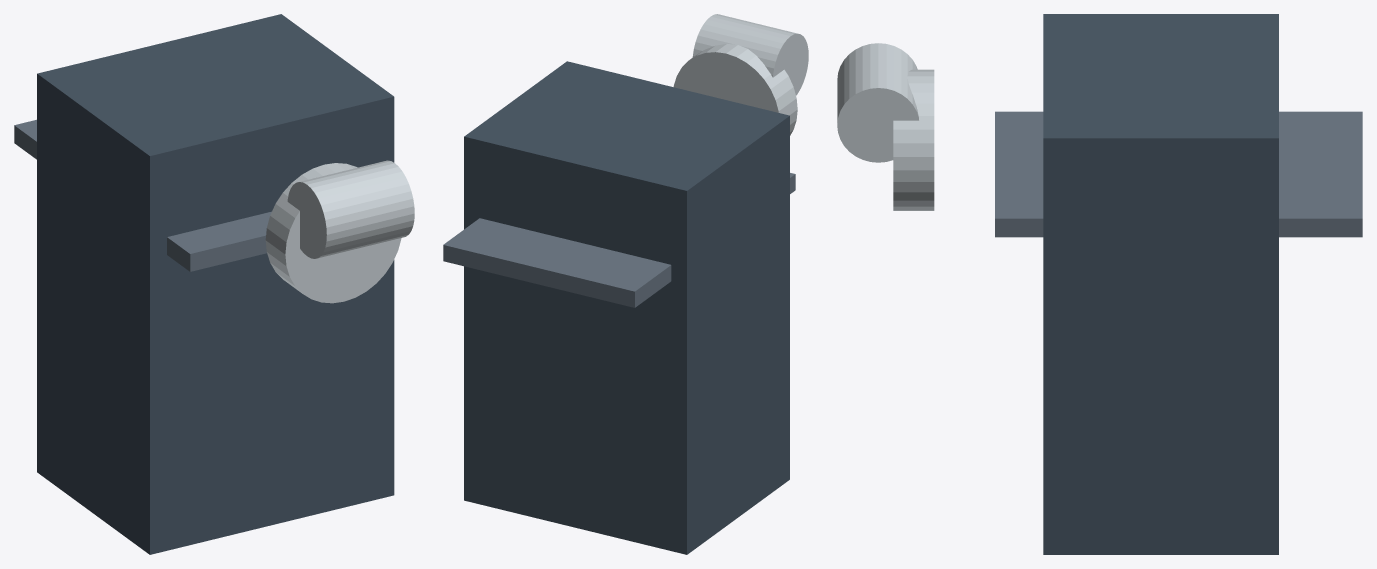
File: limit_switch.glb
3 renders of one model, left to right at view 1: azimuth 30°, elevation 25°; view 2: azimuth 150°, elevation 25°; view 3: azimuth 270°, elevation 25°, orthographic. The views are drawn at different scales.
Visible parts, largest first — view 1: limit_switch_0, limit_switch_4, limit_switch_3, limit_switch_1; view 2: limit_switch_0, limit_switch_1, limit_switch_3, limit_switch_4; view 3: limit_switch_0, limit_switch_1, limit_switch_4, limit_switch_3.
Boxes of the visible parts, x1,y1,x2,y2 form: limit_switch_0: (37,14,394,554); limit_switch_4: (287,160,414,258); limit_switch_3: (265,163,401,303); limit_switch_1: (14,119,271,271); limit_switch_0: (464,61,789,554); limit_switch_1: (443,173,795,307); limit_switch_3: (673,44,797,135); limit_switch_4: (692,14,808,95); limit_switch_0: (1043,14,1278,554); limit_switch_1: (995,111,1362,237); limit_switch_4: (837,43,918,162); limit_switch_3: (893,69,934,210).
Size of the model in its own units: 0.5 by 0.8 by 0.892.
